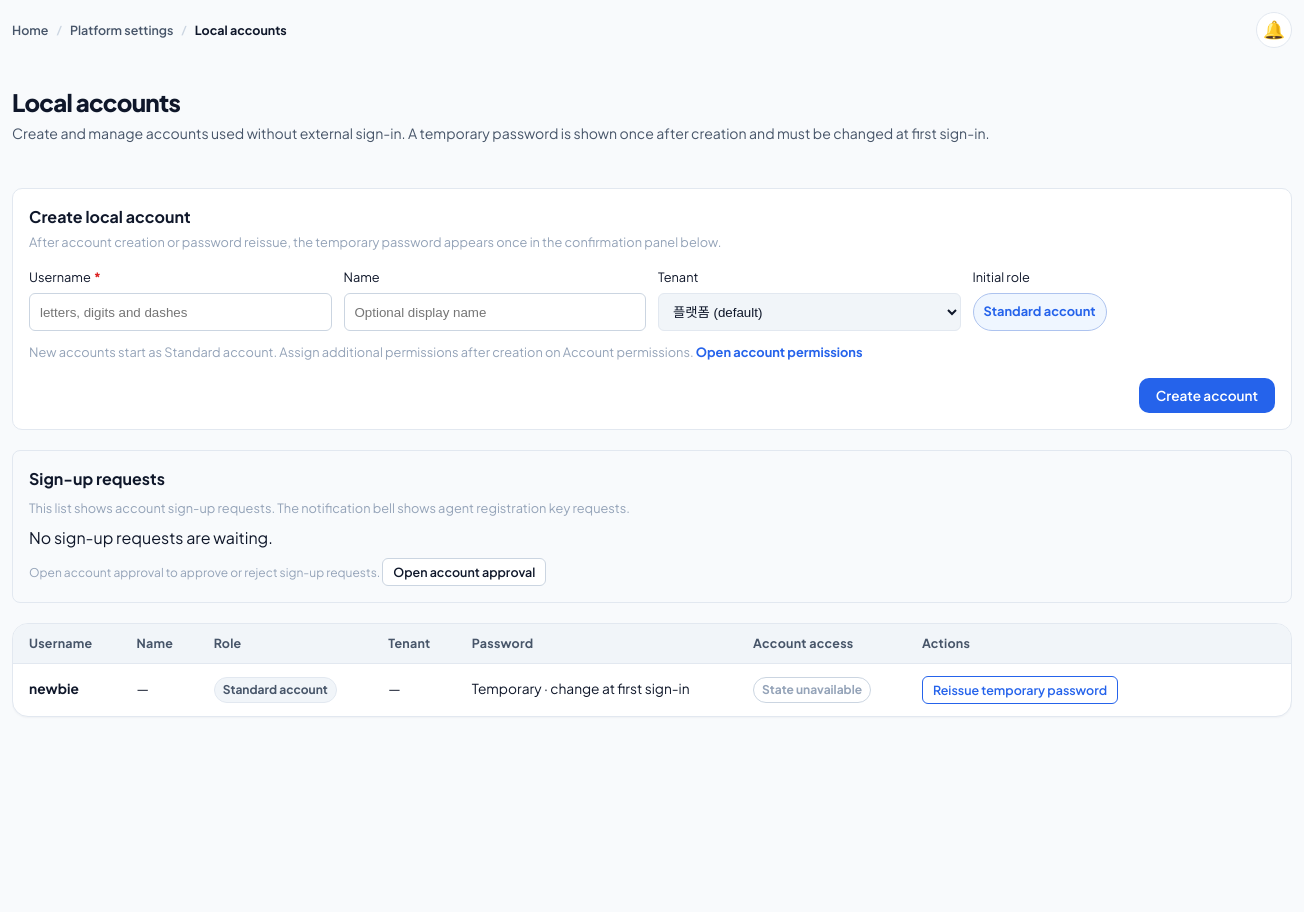
Test: the one temporary password › loses the password on a reload, and never puts it in storage
In the field with test id "admit-username": (180, 312) [29, 293, 332, 331], type "newbie"
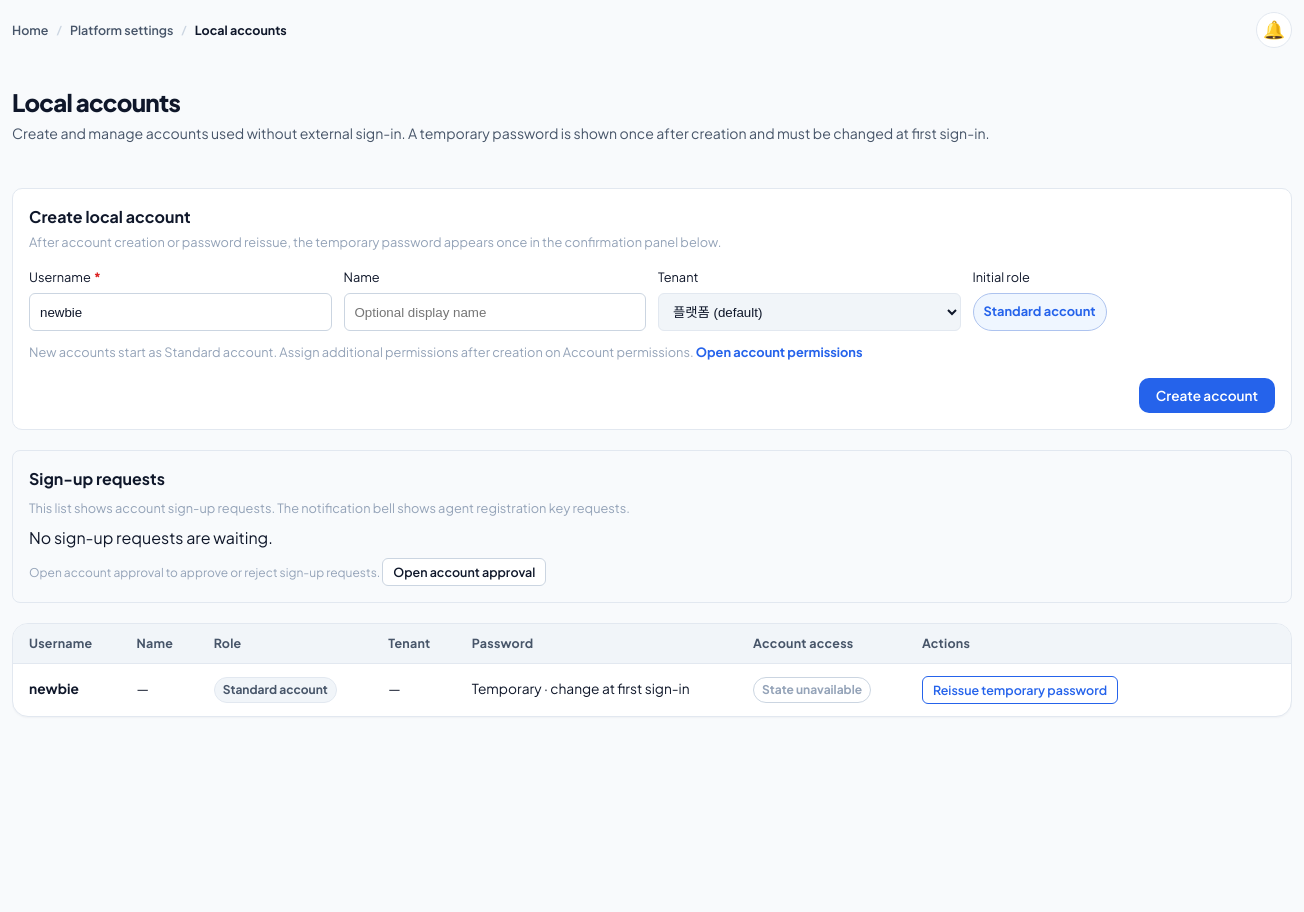
Submit the form with test id "admit-form", box [12, 188, 1292, 430]
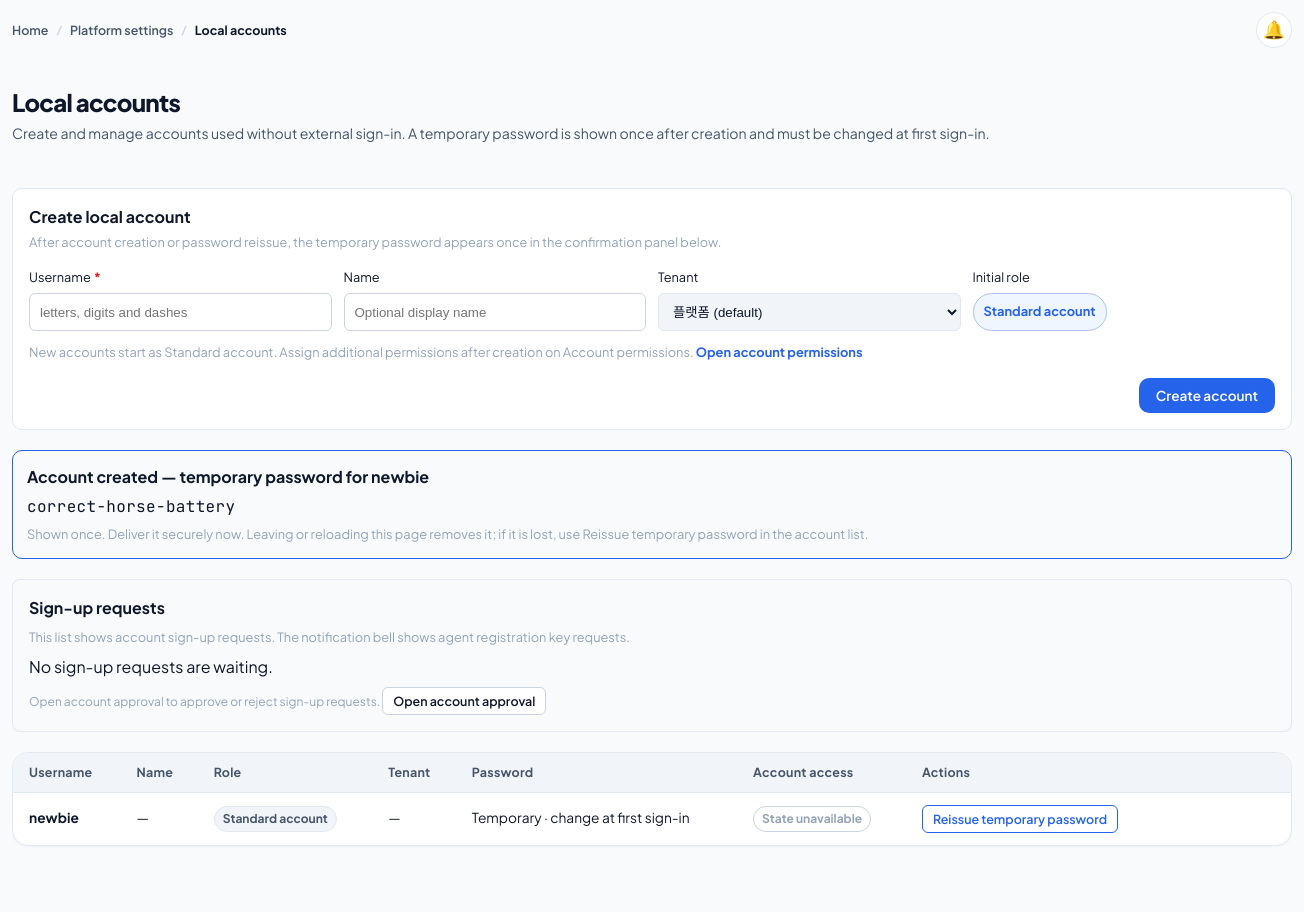
Expected: the text with test id "issued-value" reads "correct-horse-battery", [27, 496, 235, 517]
